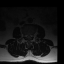CCS_normal: (28, 33, 29, 39)
LFS_normal: (31, 32, 33, 38)
LLS_normal: (29, 32, 31, 39)
RFS_normal: (24, 32, 26, 38)
RLS_normal: (26, 32, 28, 39)
